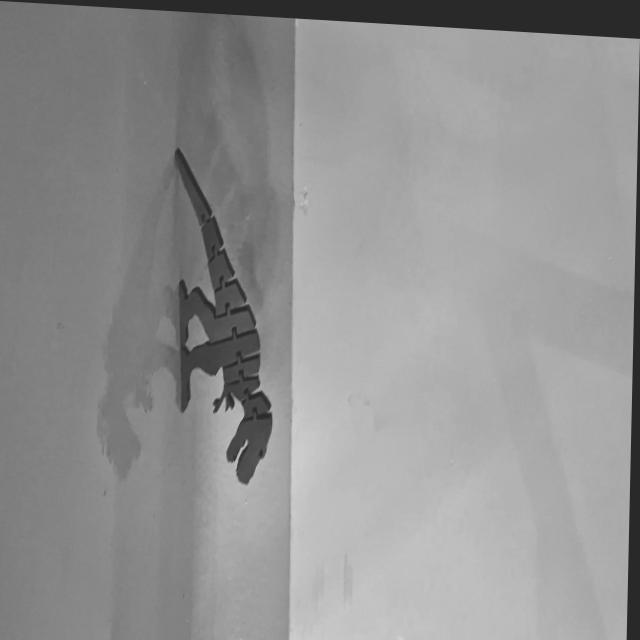dino: (167, 145, 280, 488)
